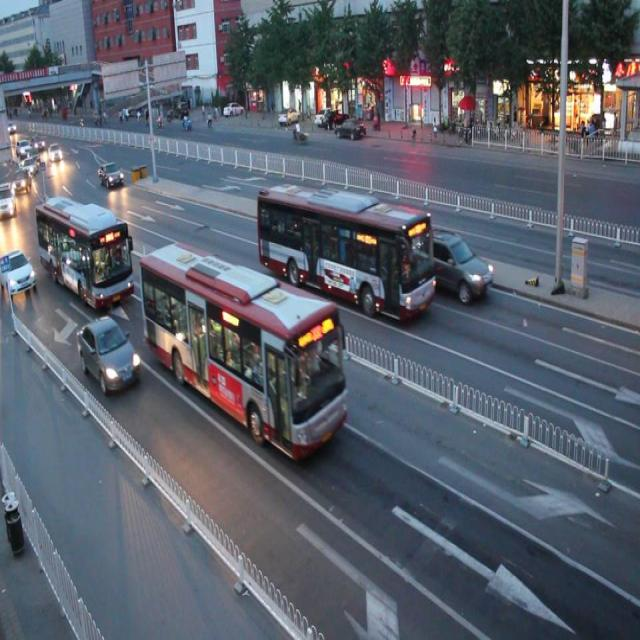car: (411, 226, 492, 302), (78, 318, 139, 392)
van: (141, 239, 345, 459), (256, 180, 433, 321), (37, 196, 133, 308)
